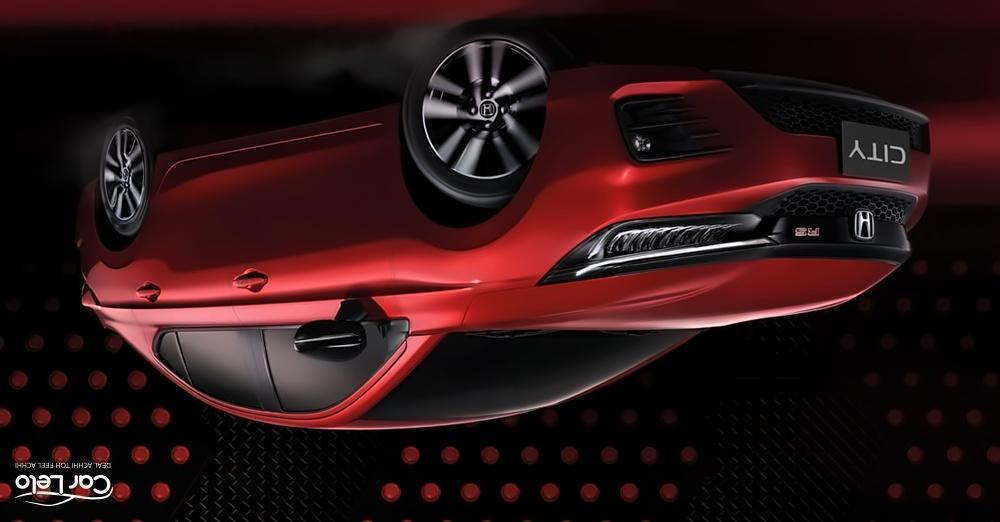Car hood: (458, 258, 898, 336)
Fender - -F-L-: (380, 58, 553, 336)
Fender - -R-L-: (76, 177, 180, 339)
Front bumper: (538, 62, 934, 221)
Headlight - -L-: (541, 212, 778, 283)
Passenger-s door - -F-L-: (229, 96, 422, 437)
Passenger-s door - -R-L-: (132, 113, 285, 436)
Side bumper - -L-: (135, 98, 404, 215)
Side mirror - -L-: (292, 295, 392, 364)
